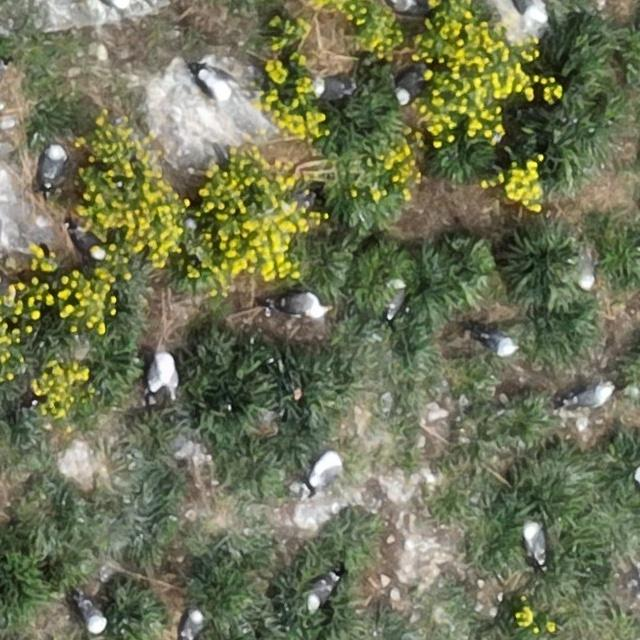umineko: (196, 63, 234, 101), (150, 349, 176, 396), (42, 143, 66, 184), (280, 294, 324, 316), (395, 70, 424, 103), (74, 228, 104, 258), (570, 387, 611, 408), (312, 452, 338, 485), (307, 575, 333, 607), (82, 601, 105, 633), (485, 333, 518, 355), (518, 1, 547, 26), (527, 526, 545, 561), (183, 610, 204, 639), (315, 78, 347, 96), (580, 258, 596, 288)
